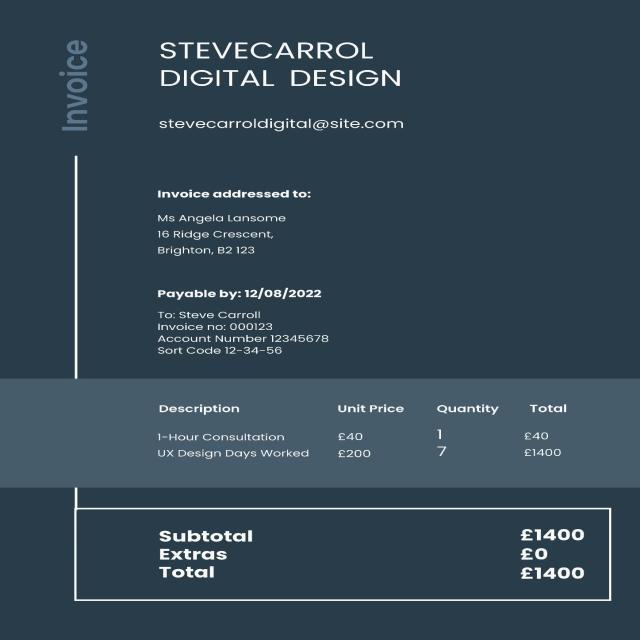ROI: (125, 388, 592, 470), (146, 521, 602, 586), (152, 30, 412, 104), (150, 285, 344, 363), (151, 182, 329, 258), (50, 32, 103, 137), (157, 115, 411, 136)
